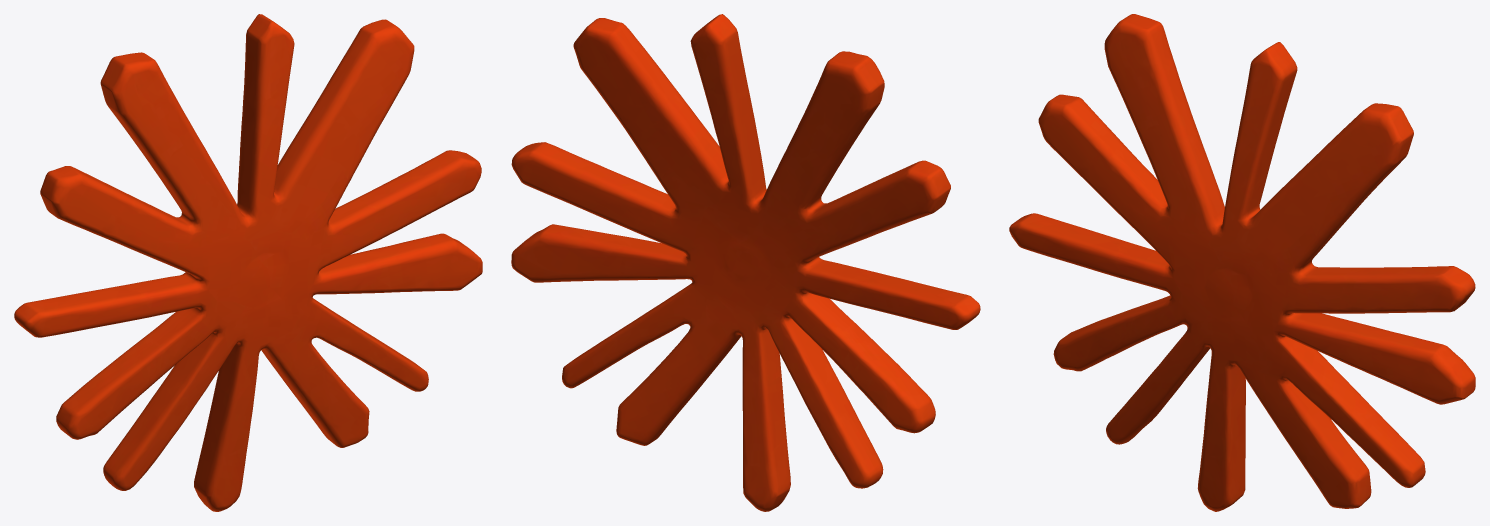
File: tool-claude.glb
3 views of the same model, side by side, from view 1: azimuth 30°, elevation 25°; view 2: azimuth 150°, elevation 25°; view 3: azimuth 330°, elevation 25° (orthographic).
Visible parts, largest first — view 1: tripo_node_7da01e78-c014-4485-bd40-c28af4ef0ec9; view 2: tripo_node_7da01e78-c014-4485-bd40-c28af4ef0ec9; view 3: tripo_node_7da01e78-c014-4485-bd40-c28af4ef0ec9.
Part boxes in pixels (box(x1,y1,x2,y2)): tripo_node_7da01e78-c014-4485-bd40-c28af4ef0ec9: box(14, 14, 482, 511); tripo_node_7da01e78-c014-4485-bd40-c28af4ef0ec9: box(511, 14, 980, 511); tripo_node_7da01e78-c014-4485-bd40-c28af4ef0ec9: box(1009, 14, 1475, 511).
Bounding box in the file's own units: 0.9807 × 0.9784 × 0.1129.
Materials: 1 (1 with a texture image).
